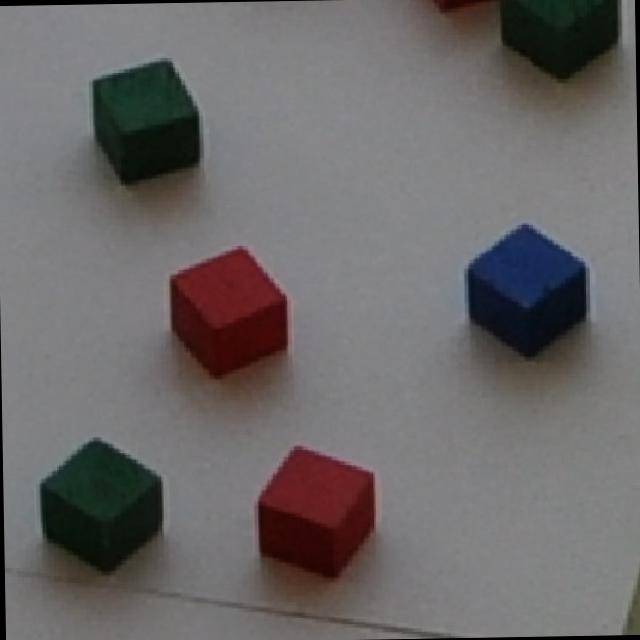bluecube: (468, 222, 588, 362)
green cube: (40, 438, 170, 574), (87, 61, 201, 184), (500, 0, 625, 87)
red cube: (261, 439, 378, 581), (171, 244, 291, 377)
